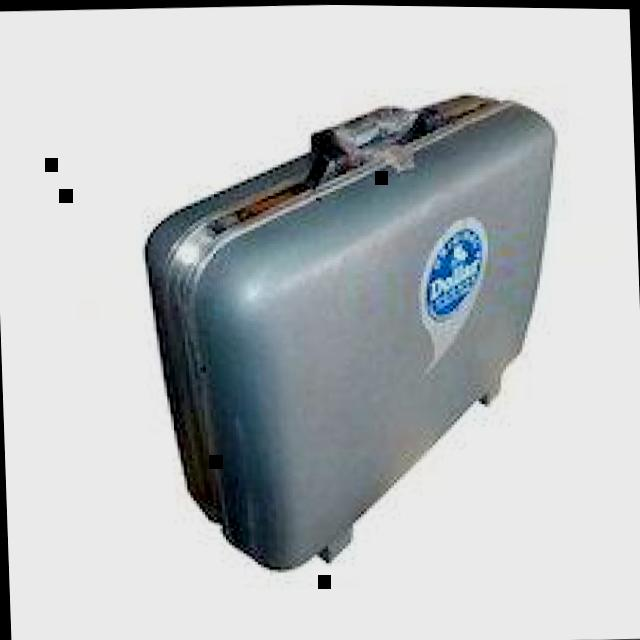luggage: (125, 75, 583, 590)
